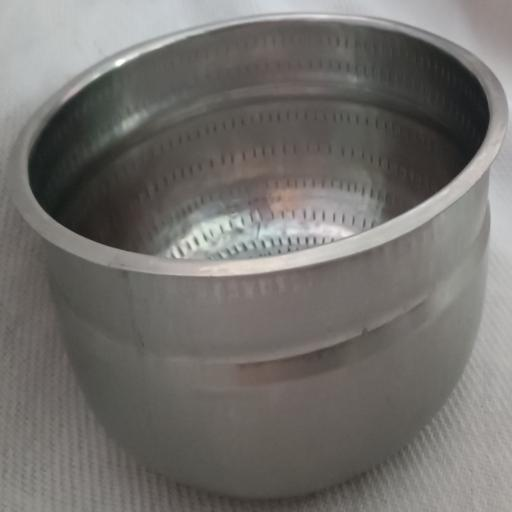vessel: (5, 8, 510, 501)
